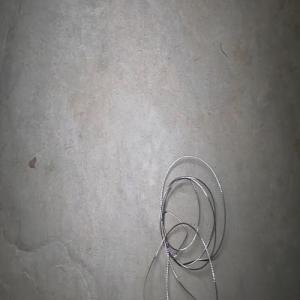Wire: (143, 155, 225, 300)
